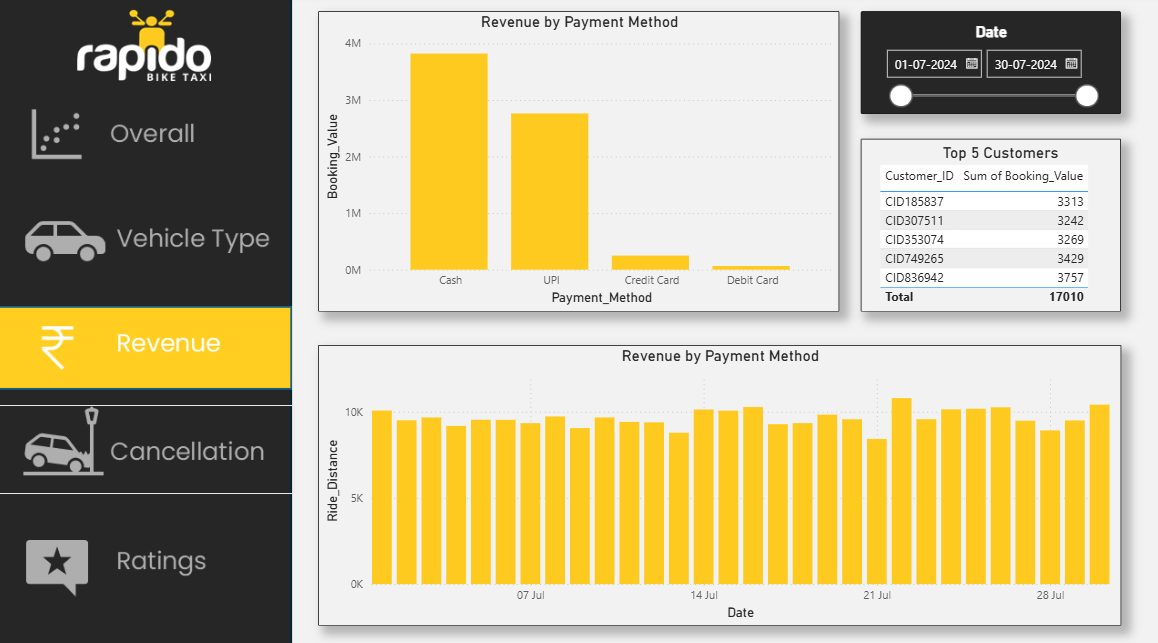

Layout of this report page (visuals, bound fields, positions):
{"tool":"powerbi","page":{"name":"Revenue","canvas":[1280,720],"ordinal":2},"visuals":[{"type":"actionButton","box":[0,218.9,326.1,97.1],"z":0},{"type":"actionButton","box":[0,335,326.1,97.1],"z":1000},{"type":"actionButton","box":[0,450,326.1,97.1],"z":2000},{"type":"actionButton","box":[0,575.1,326.1,97.1],"z":3000},{"type":"actionButton","box":[0,109.4,326.1,97.1],"z":4000},{"type":"columnChart","title":"Revenue by Payment Method","fields":{"Y":["Sum(July.Booking_Value)"],"Category":["July.Payment_Method"]},"box":[352.7,17.8,572.2,329.3],"z":5000},{"type":"columnChart","title":"Revenue by Payment Method","fields":{"Y":["Sum(July.Ride_Distance)"],"Category":["July.Date"]},"box":[352.3,383.7,881.4,308.1],"z":6000},{"type":"slicer","title":"Date","fields":{"Values":["July.Date"]},"box":[948.2,17.8,285.4,112.5],"z":7000},{"type":"tableEx","title":"Top 5 Customers","fields":{"Values":["July.Customer_ID","Sum(July.Booking_Value)"]},"box":[948.2,157.8,285.4,189.4],"z":8000}]}

Visuals, with their boxes in screenshot pixels (x1, y1, x2, y2):
actionButton: crop(0, 191, 288, 279)
actionButton: crop(0, 297, 288, 385)
actionButton: crop(0, 401, 288, 490)
actionButton: crop(0, 516, 288, 604)
actionButton: crop(0, 91, 288, 179)
"Revenue by Payment Method" columnChart: crop(313, 7, 835, 308)
"Revenue by Payment Method" columnChart: crop(312, 341, 1116, 622)
"Date" slicer: crop(856, 7, 1116, 110)
"Top 5 Customers" tableEx: crop(856, 135, 1116, 308)
